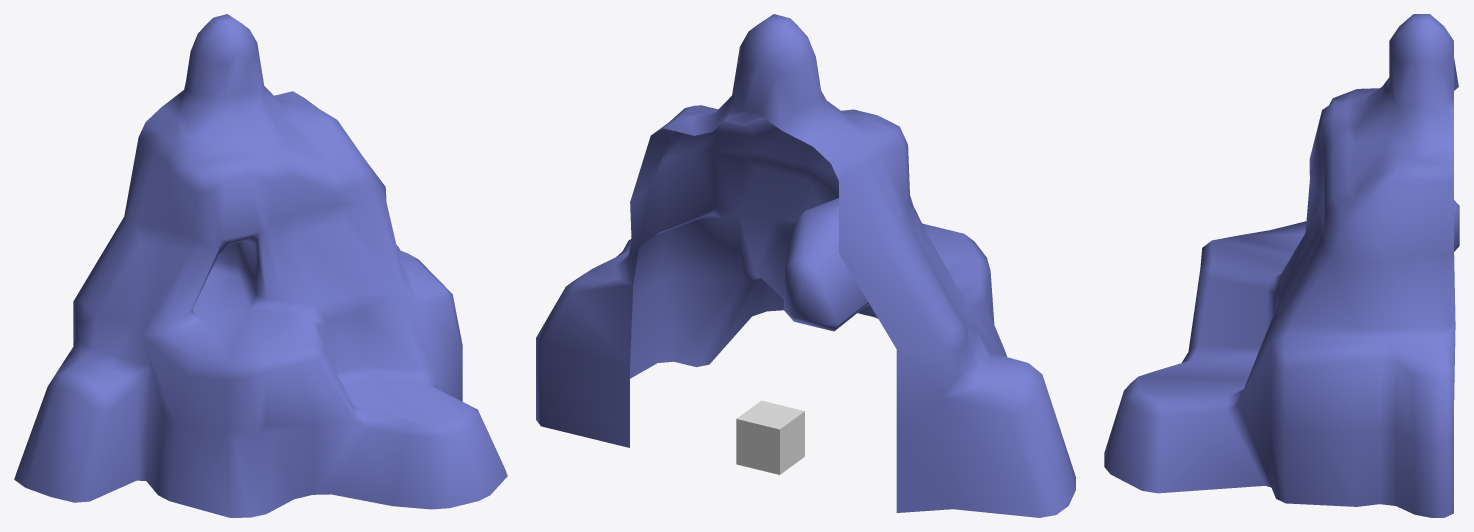
File: Waterfall.fbx
The picture shows the model from 3 angles, left to right: view 1: azimuth 30°, elevation 25°; view 2: azimuth 150°, elevation 25°; view 3: azimuth 270°, elevation 25°; orthographic projection. The views are drawn at different scales.
Parts seen in each view (by area): view 1: Mountain; view 2: Mountain, Cube.001; view 3: Mountain.
Boxes of the visible parts, x1,y1,x2,y2 form: Mountain: (14,14,507,517); Mountain: (536,14,1075,517); Cube.001: (736,400,804,474); Mountain: (1104,14,1459,517).
Bounding box in the file's own units: 22.42 × 20.23 × 15.78.
